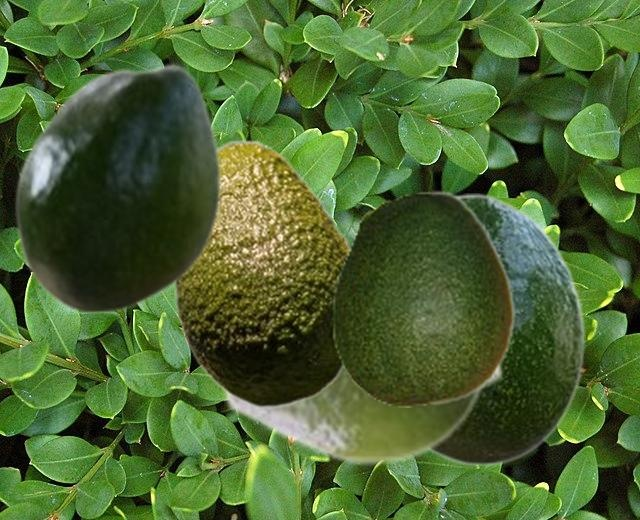avocado: (13, 62, 221, 314), (170, 139, 350, 407), (430, 193, 584, 466), (331, 190, 514, 406), (218, 366, 504, 467)
